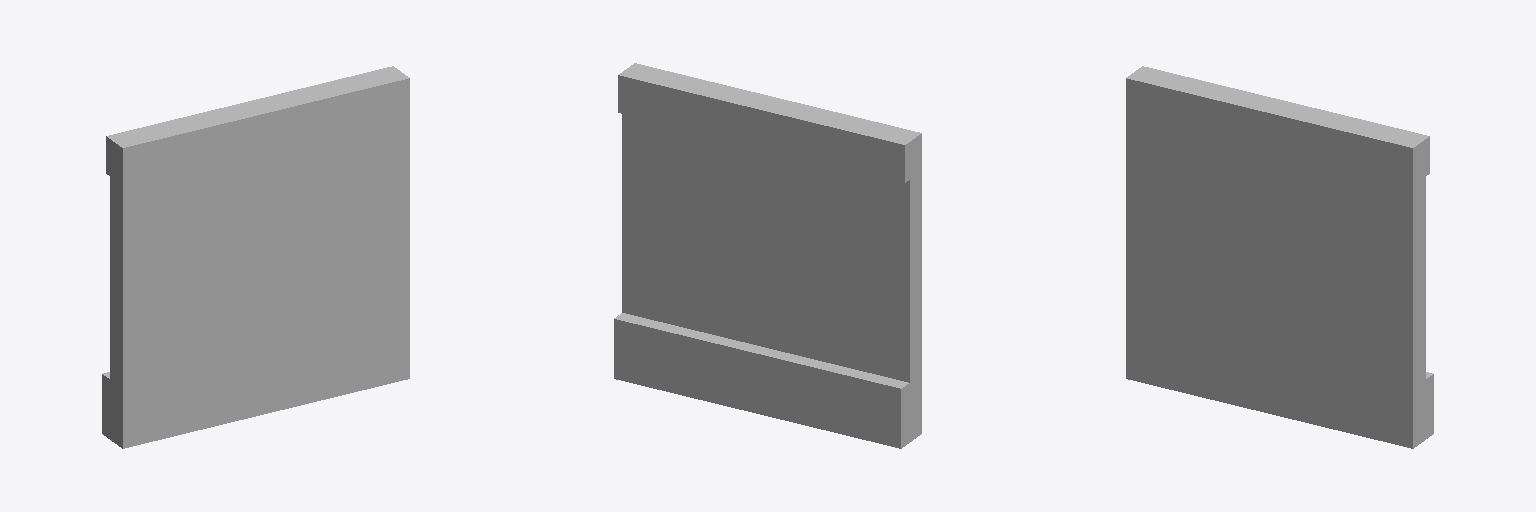
Rendered from Wall.obj.
The picture shows the model from 3 angles: view 1: azimuth 30°, elevation 25°; view 2: azimuth 150°, elevation 25°; view 3: azimuth 330°, elevation 25°; orthographic projection.
Visible parts, largest first — view 1: object 1; view 2: object 1; view 3: object 1.
Boxes of the visible parts, x1=… form: object 1: x1=102, y1=66, x2=409, y2=448; object 1: x1=614, y1=63, x2=921, y2=448; object 1: x1=1126, y1=66, x2=1433, y2=448.
Bounding box in the file's own units: 4 × 4 × 0.5.